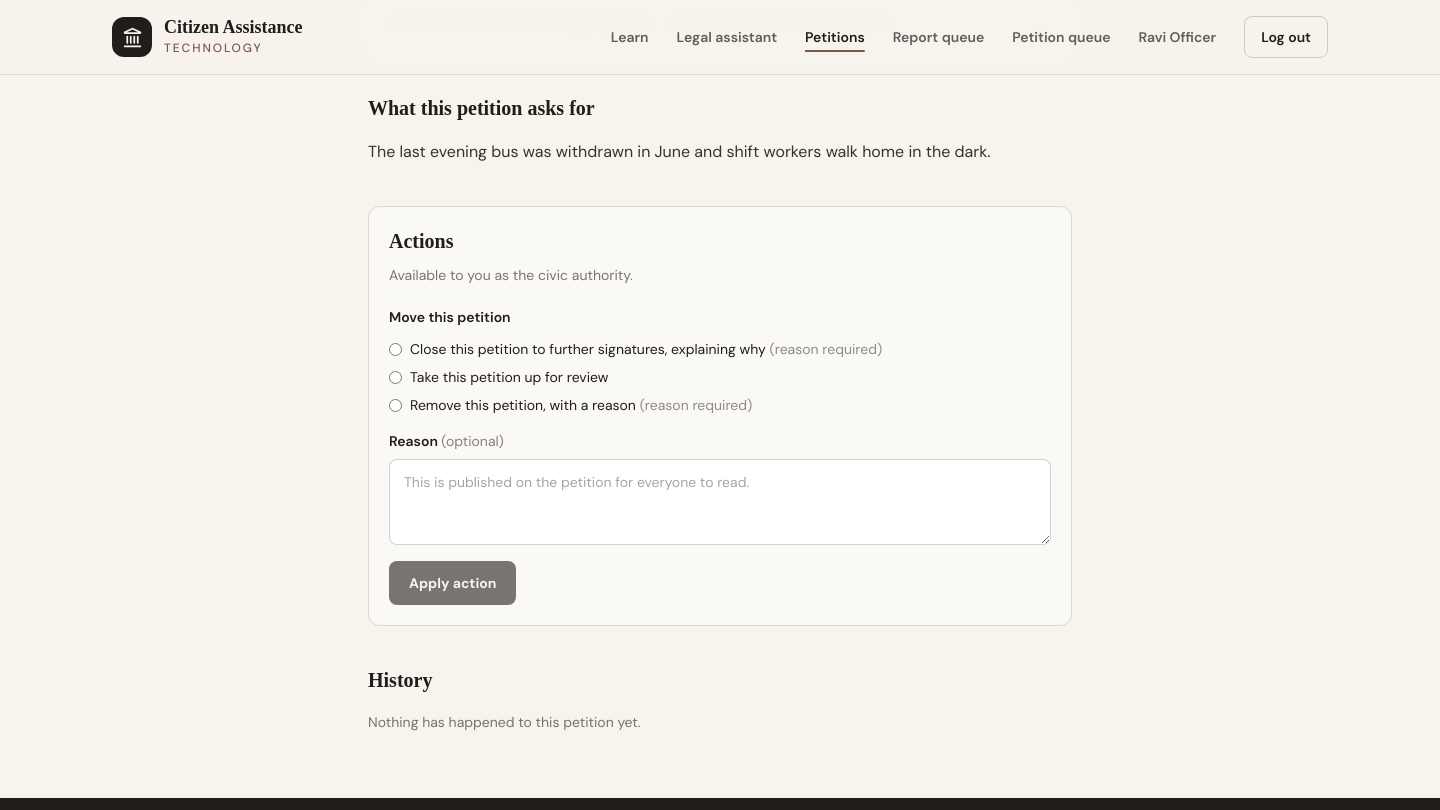
PetitionDetailPage › keeps the apply button disabled until a reason is given where one is required
This screenshot has width=1440, height=810.
(page scrolled)
Expected: the button "Apply action" is disabled, [389,561,516,605]
Click the radio button labelled "Remove this petition, with a reason (reason required)" at (396,406), box [389,399,402,412]
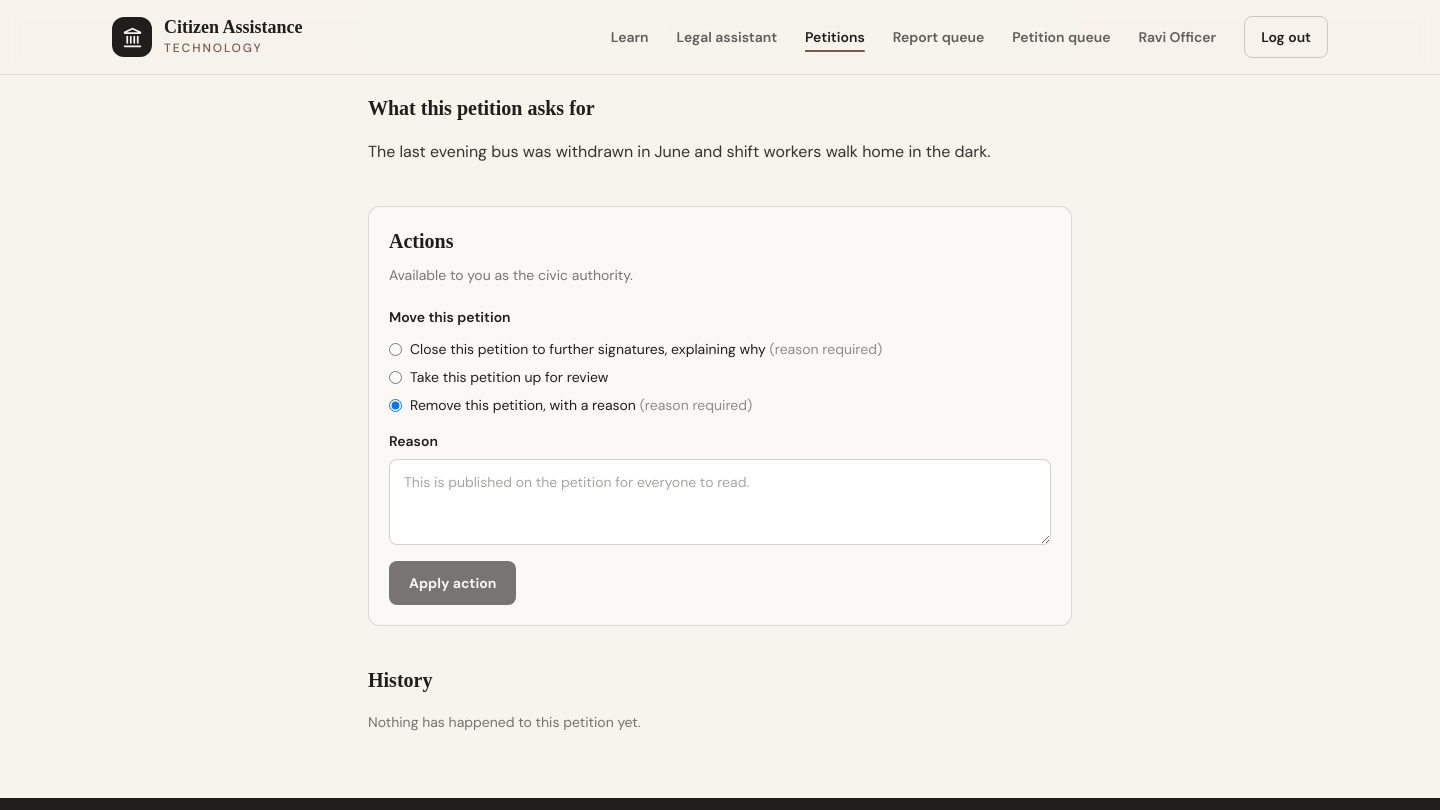
Expected: the button "Apply action" is disabled, [389,561,516,605]
Type "Duplicate petition." into the text box labelled "Reason" at (720,502), box [389,459,1051,545]
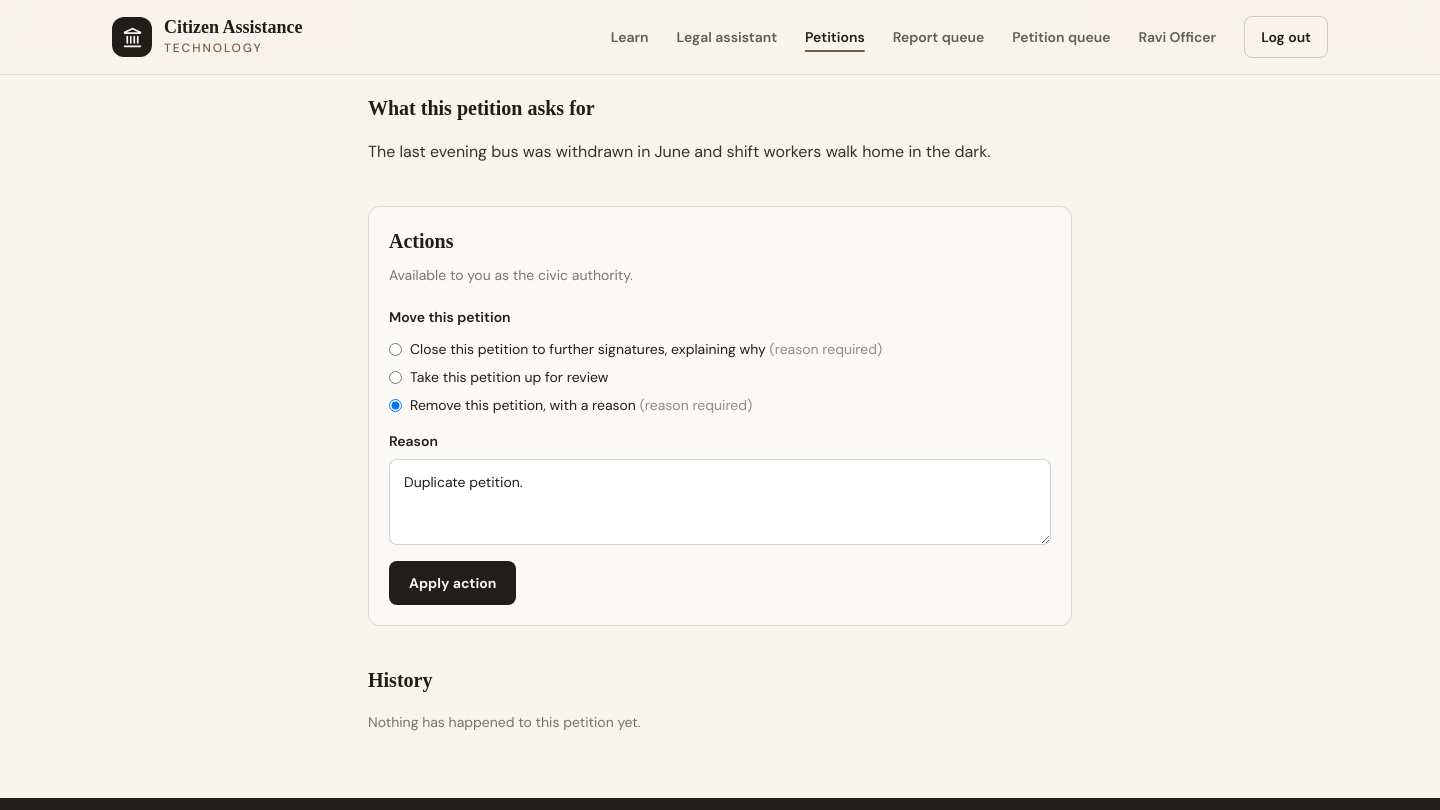
Now the button "Apply action" is enabled, box [389,561,516,605]
